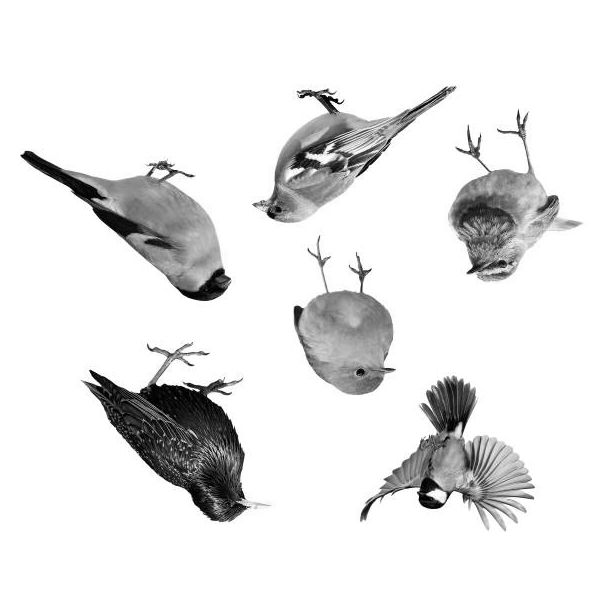Bird: (77, 332, 277, 530), (18, 125, 233, 306), (351, 370, 540, 540), (248, 82, 457, 223), (447, 108, 589, 287), (290, 234, 403, 400)
